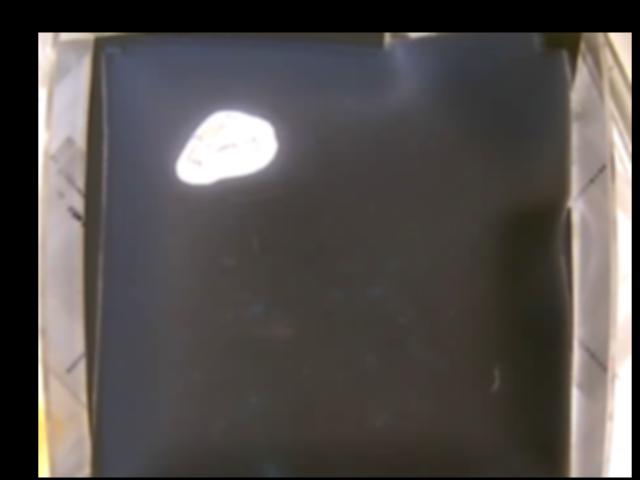Pebble: (175, 109, 279, 186)
